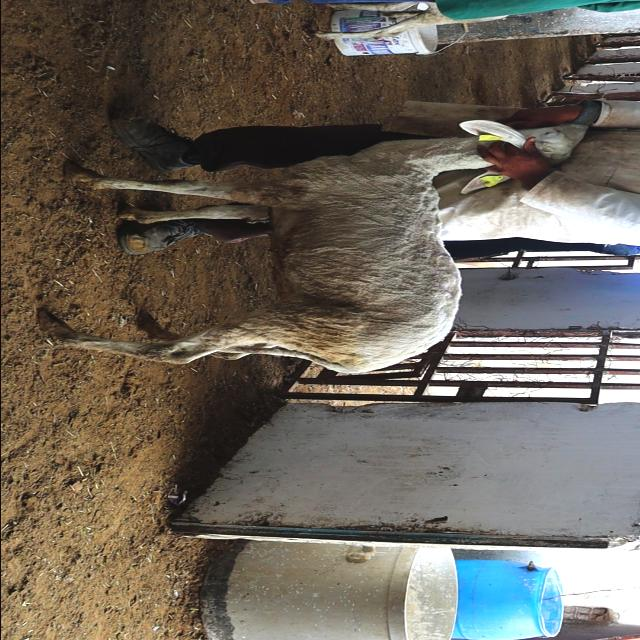Score_1: (39, 119, 587, 373)
